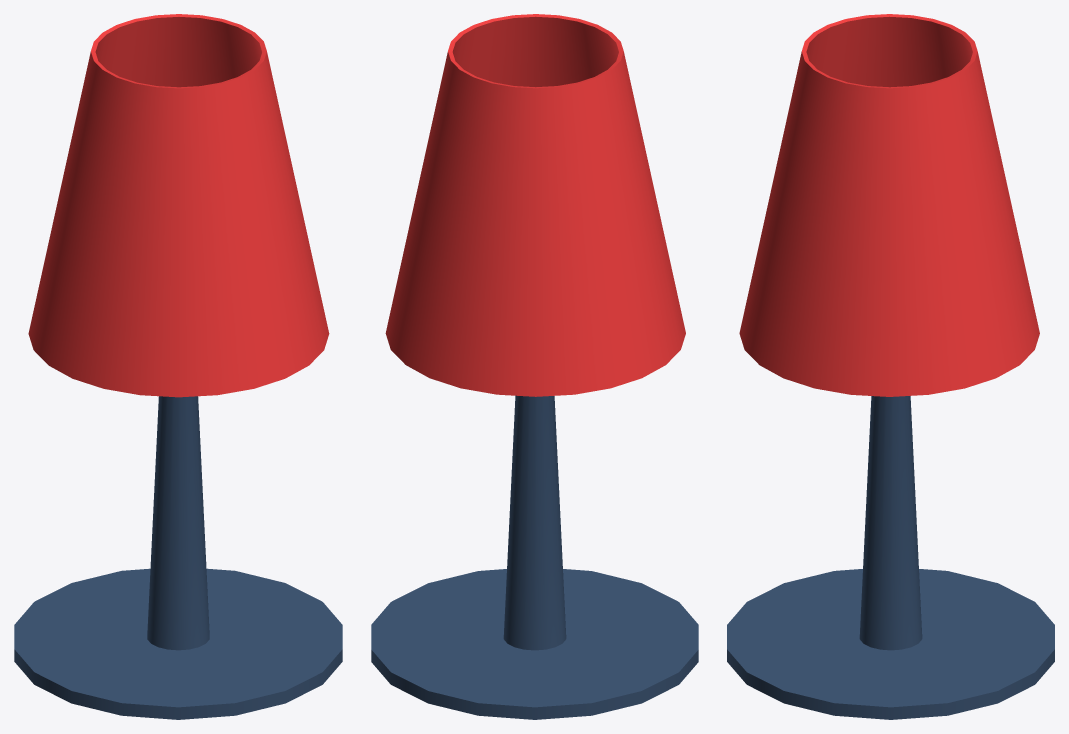
The model's file is Lamp.FBX.
The picture shows the model from 3 angles, left to right: view 1: azimuth 30°, elevation 25°; view 2: azimuth 150°, elevation 25°; view 3: azimuth 270°, elevation 25°; orthographic projection.
Visible parts, largest first — view 1: Lamp; view 2: Lamp; view 3: Lamp.
Part boxes in pixels (x1=…): Lamp: x1=14, y1=14, x2=342, y2=719; Lamp: x1=371, y1=14, x2=698, y2=719; Lamp: x1=727, y1=14, x2=1054, y2=719.
Bounding box in the file's own units: 46.91 × 93.05 × 46.19.
